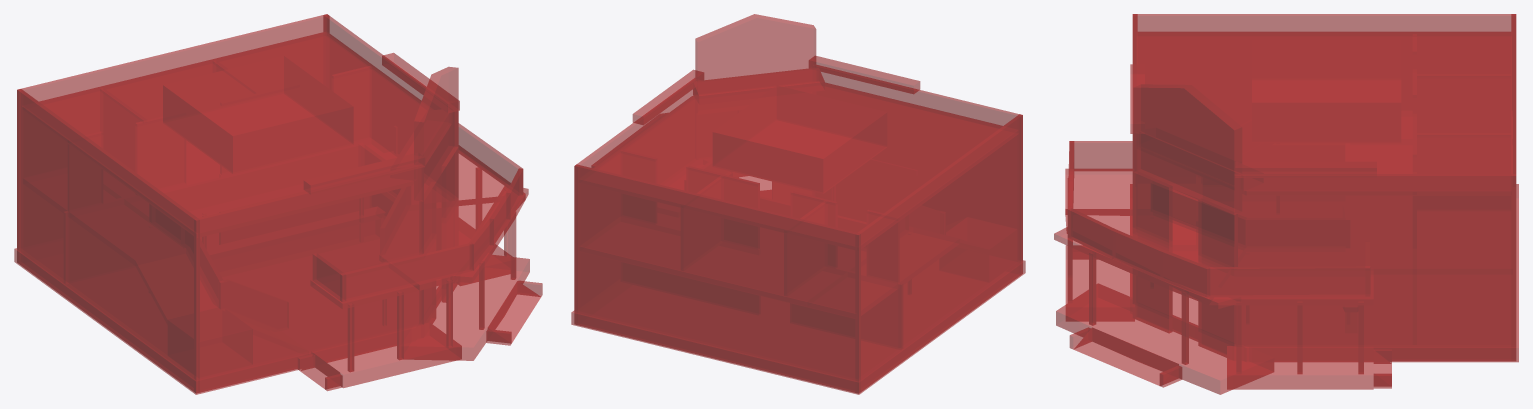
File: SM_Bld_Saloon_01_Collision.fbx
The picture shows the model from 3 angles, left to right: view 1: azimuth 30°, elevation 25°; view 2: azimuth 150°, elevation 25°; view 3: azimuth 270°, elevation 25°; orthographic projection. The views are drawn at different scales.
Parts seen in each view (by area): view 1: SM_Bld_Saloon_01_Collision; view 2: SM_Bld_Saloon_01_Collision; view 3: SM_Bld_Saloon_01_Collision.
Part boxes in pixels (x1,y1,x2,y2): SM_Bld_Saloon_01_Collision: (14, 14, 542, 394); SM_Bld_Saloon_01_Collision: (571, 14, 1025, 394); SM_Bld_Saloon_01_Collision: (1054, 14, 1518, 394).
Size of the model in its own units: 1665 by 994 by 1665.
